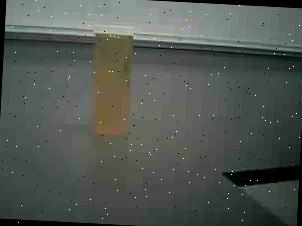Bottle A: (84, 16, 146, 144)
